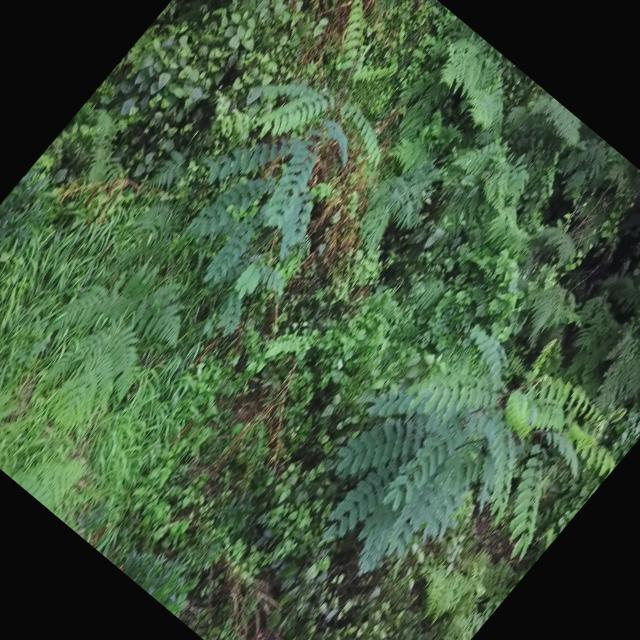Mysore-Thorn-Weed: (277, 265, 640, 640), (107, 0, 468, 355)
